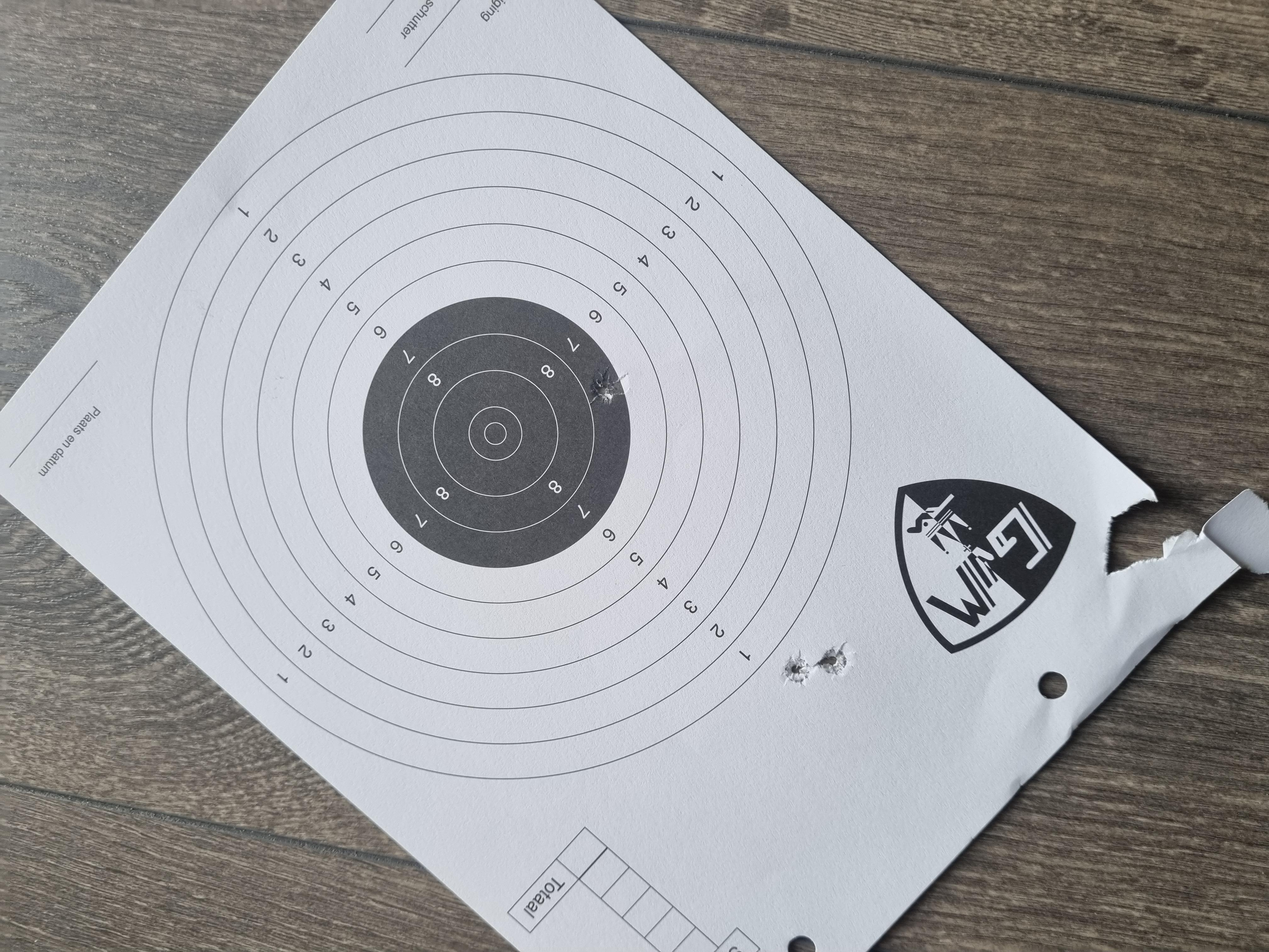hole: (723, 443, 775, 468), (368, 611, 412, 637), (352, 588, 402, 609)
